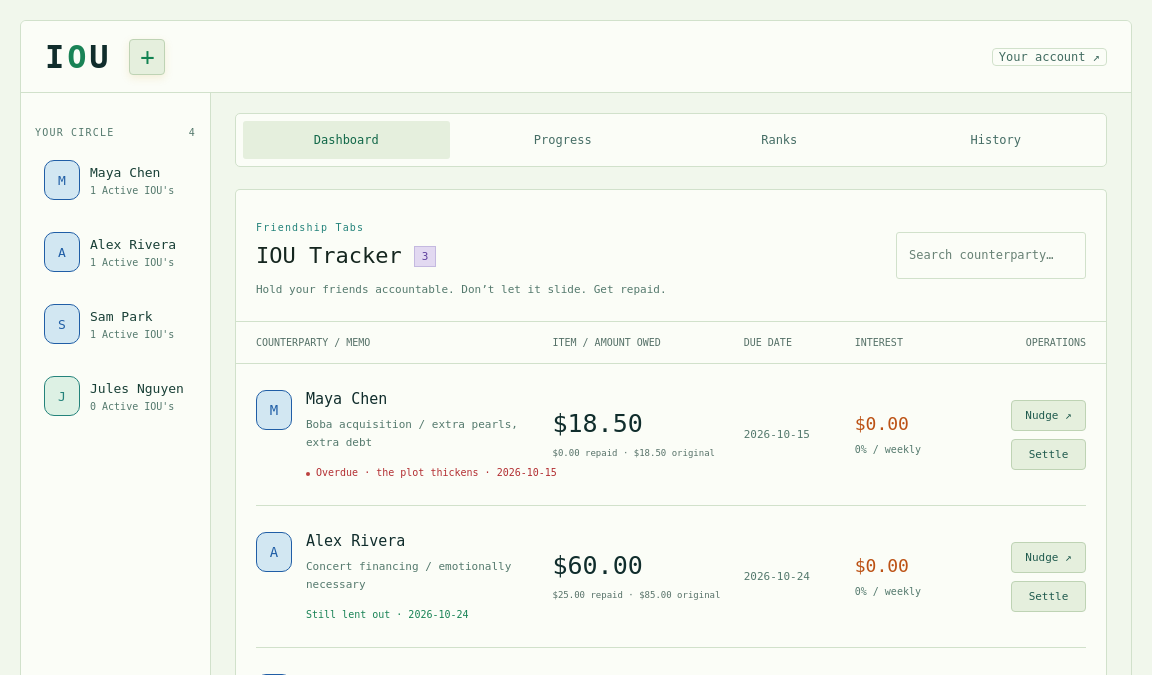
Test: keeps an IOU visible after a failed settlement and retries with the same key
This screenshot has width=1152, height=675.
Click the button "Settle" in the row of "$0.00 repaid · $18.50 original" at [1048, 454], box [1011,439,1086,470]
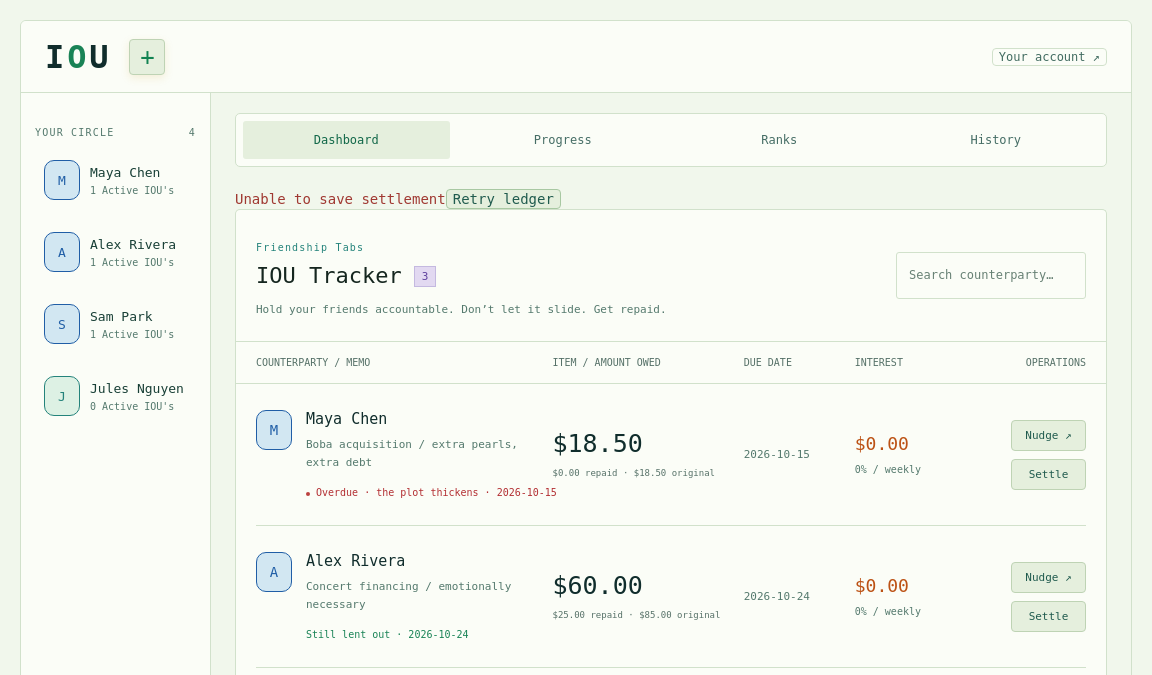
expect the message shows "Unable to save settlement": met, box [235,191,446,207]
Click the button "Settle" in the row of "$0.00 repaid · $18.50 original" at [1048, 474], box [1011,459,1086,490]
(page scrolled)
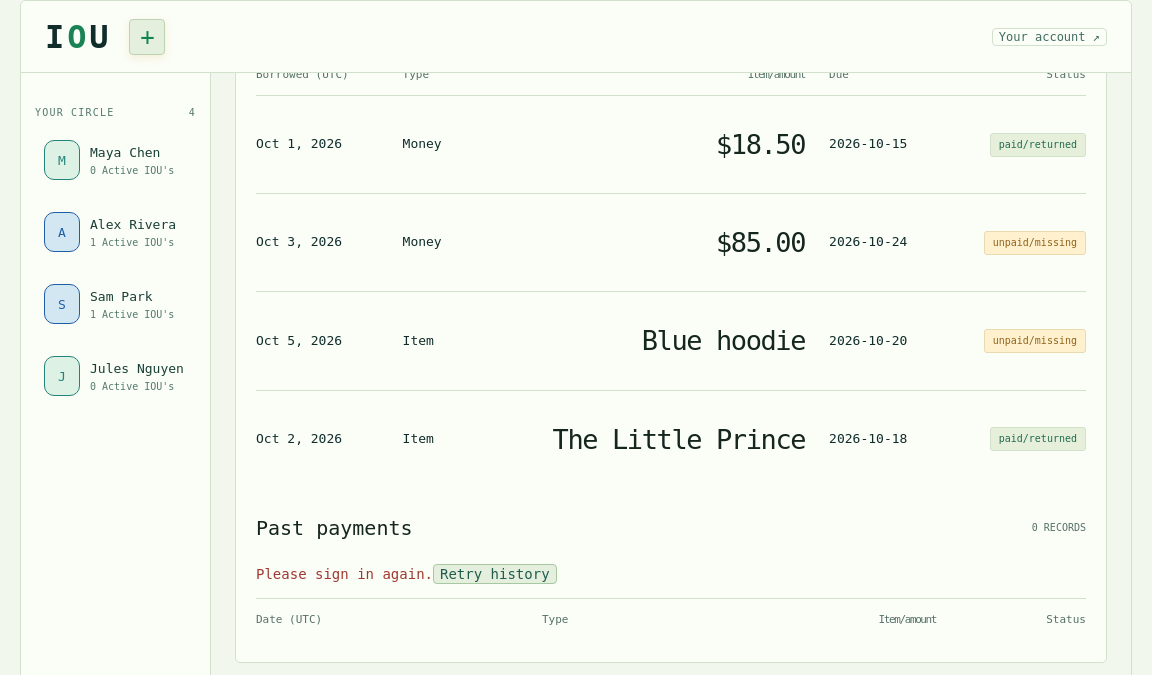
expect the heading "Past payments" is shown: met, box [256,516,412,540]
